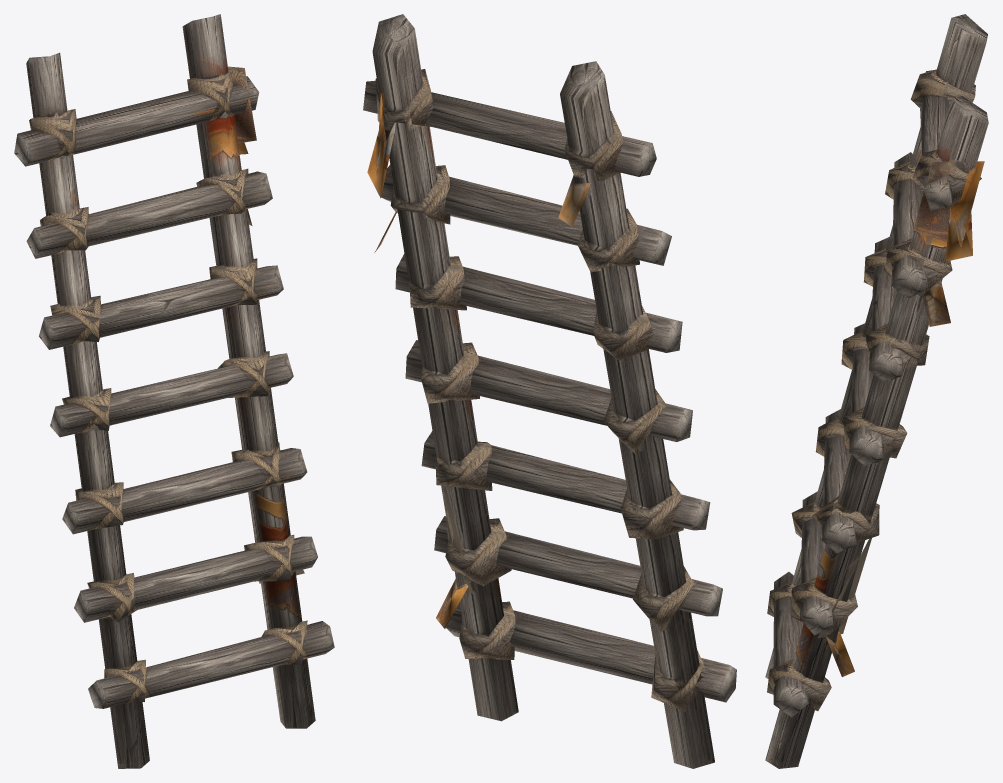
The model's file is goblin-ladder-long.glb.
3 renders of one model, left to right at view 1: azimuth 30°, elevation 25°; view 2: azimuth 150°, elevation 25°; view 3: azimuth 270°, elevation 25°, orthographic. The views are drawn at different scales.
Size of the model in its own units: 0.3774 by 1 by 0.3058.
Materials: 1 (1 with a texture image).
